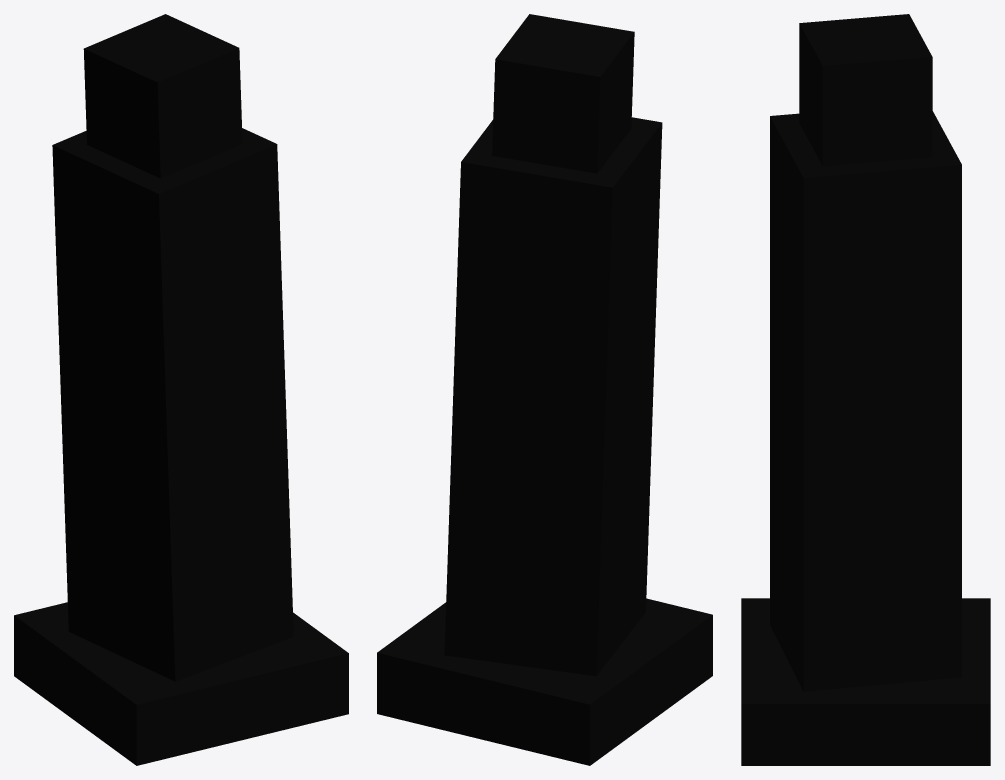
Rendered from obelisk.gltf.
3 renders of one model, left to right at view 1: azimuth 30°, elevation 25°; view 2: azimuth 150°, elevation 25°; view 3: azimuth 270°, elevation 25°, orthographic.
Visible parts, largest first — view 1: shaft, base, tip; view 2: shaft, base, tip; view 3: shaft, base, tip.
Part boxes in pixels (x1=…): shaft: x1=52, y1=128, x2=293, y2=681; base: x1=14, y1=602, x2=348, y2=765; tip: x1=83, y1=14, x2=242, y2=178; shaft: x1=444, y1=117, x2=662, y2=676; base: x1=377, y1=598, x2=712, y2=765; tip: x1=492, y1=14, x2=634, y2=173; shaft: x1=770, y1=111, x2=961, y2=691; base: x1=741, y1=598, x2=990, y2=765; tip: x1=799, y1=14, x2=932, y2=166.
Bounding box in the file's own units: 0.5 × 1.47 × 0.5.
3 materials, 3 textured.
